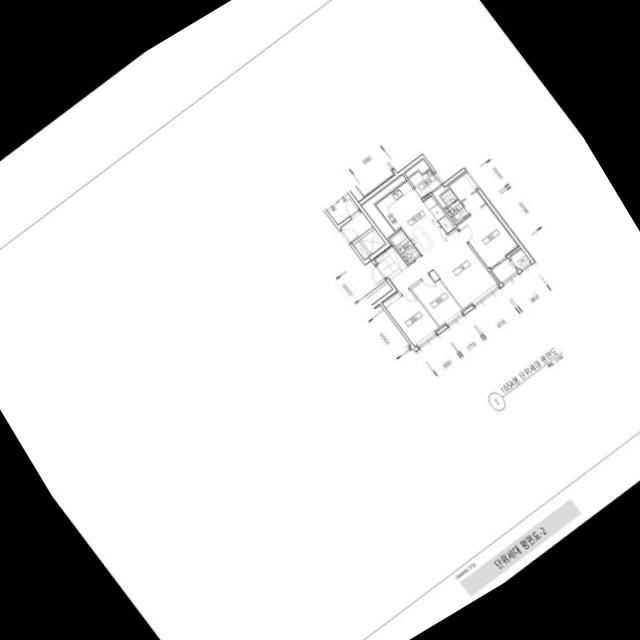background: (0, 0, 640, 640)
space_bedroom: (448, 170, 519, 268), (381, 290, 439, 347), (411, 275, 463, 327)
space_front: (373, 245, 408, 280)
space_kitchen: (375, 180, 455, 255)
space_living_room: (389, 230, 499, 310)
space_multipurpose_space: (408, 170, 440, 197)
space_other: (361, 174, 406, 245), (340, 211, 372, 242), (360, 229, 385, 254), (491, 258, 517, 282), (404, 158, 434, 177), (432, 185, 449, 207), (353, 241, 369, 259)
space_outdoor_room: (509, 248, 530, 269)
space_staircase: (326, 192, 359, 224)
space_toilet: (388, 229, 420, 264), (440, 188, 469, 224)
